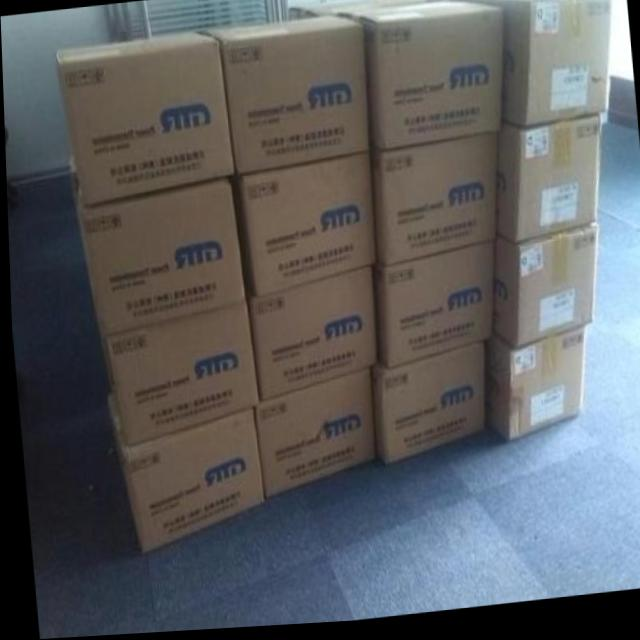box: (54, 35, 232, 205), (194, 18, 367, 176), (75, 181, 244, 337), (104, 396, 261, 555), (335, 5, 503, 152), (103, 306, 255, 448), (451, 0, 610, 134), (232, 158, 374, 301), (369, 140, 496, 270), (248, 271, 373, 402), (252, 373, 373, 499), (372, 247, 493, 371), (367, 348, 483, 469), (490, 230, 596, 353), (495, 123, 599, 248), (482, 334, 584, 448), (287, 0, 446, 24)
